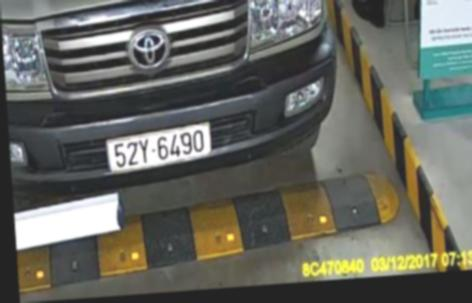License_Plate: (99, 120, 224, 178)
